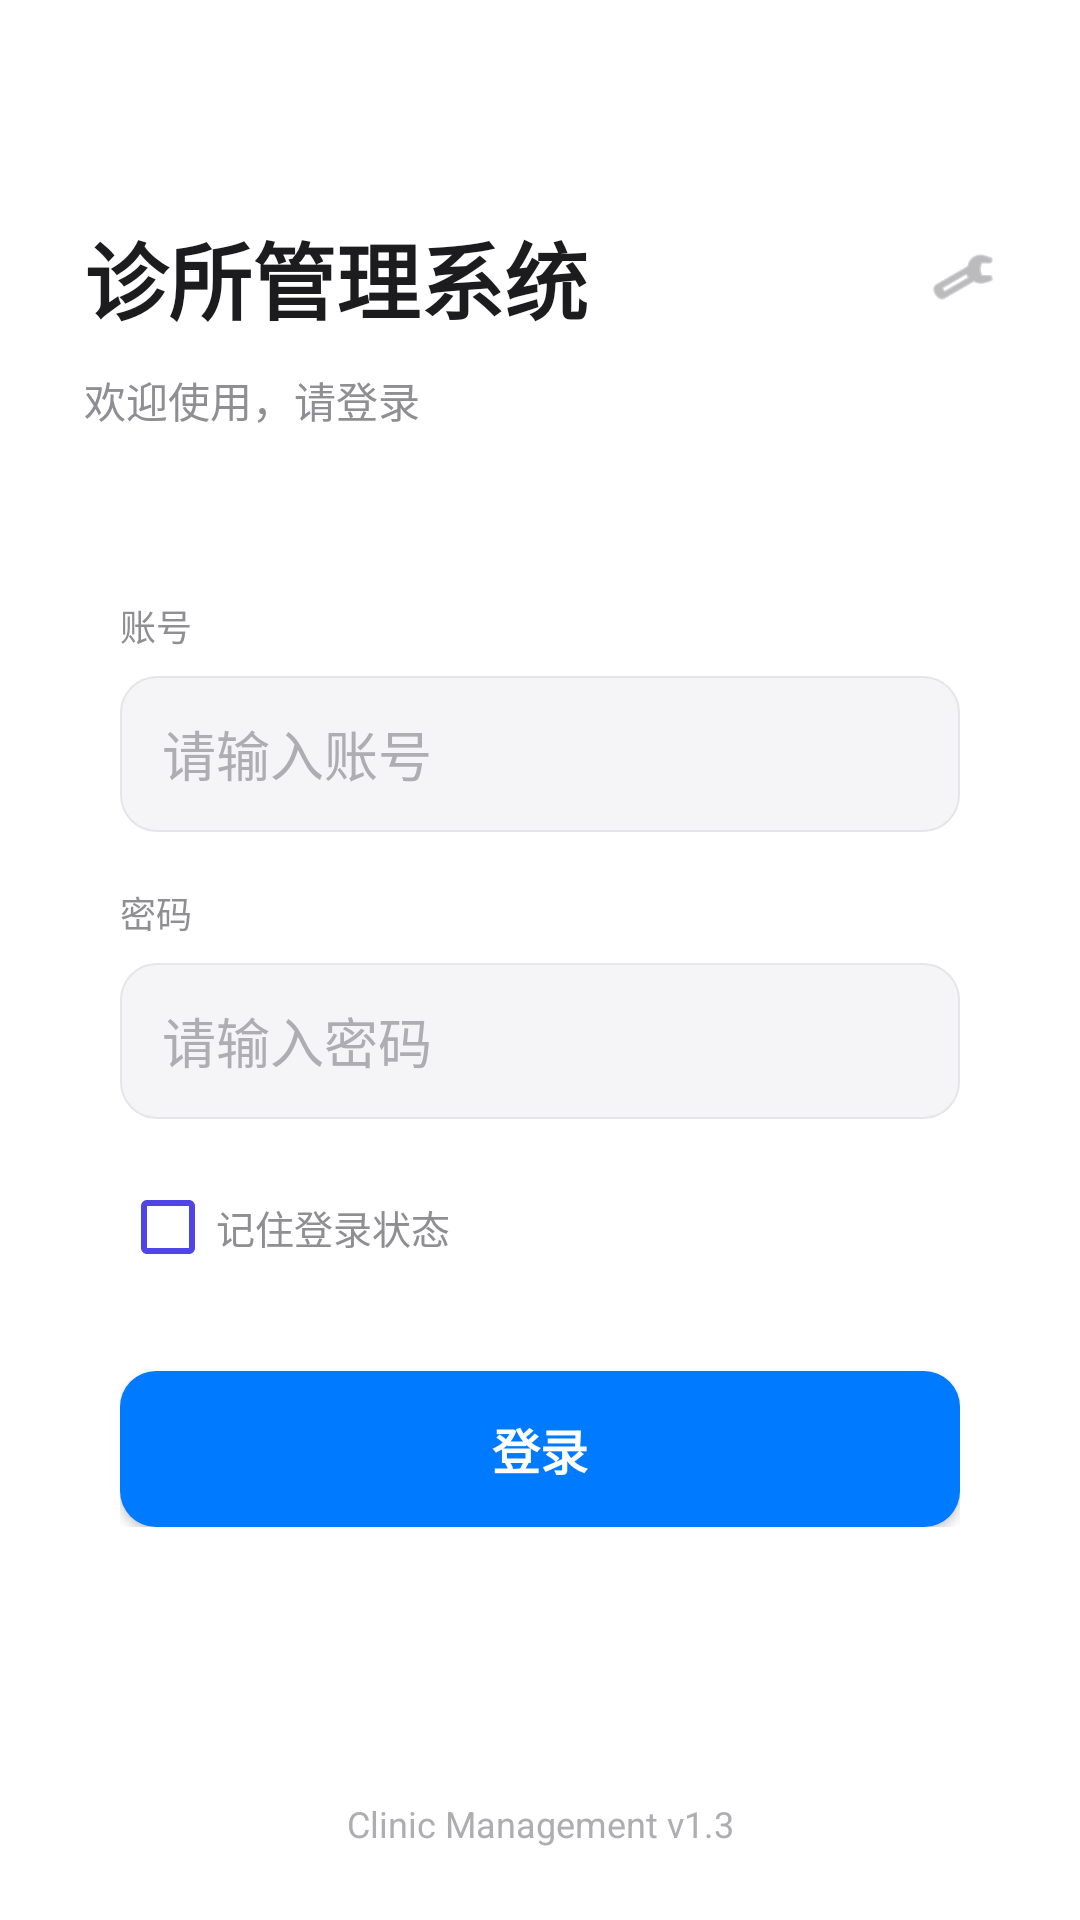

Icons on this 1080px x 1920px Android screen, each with the point to tap as (x,y):
manage: (963,277)
